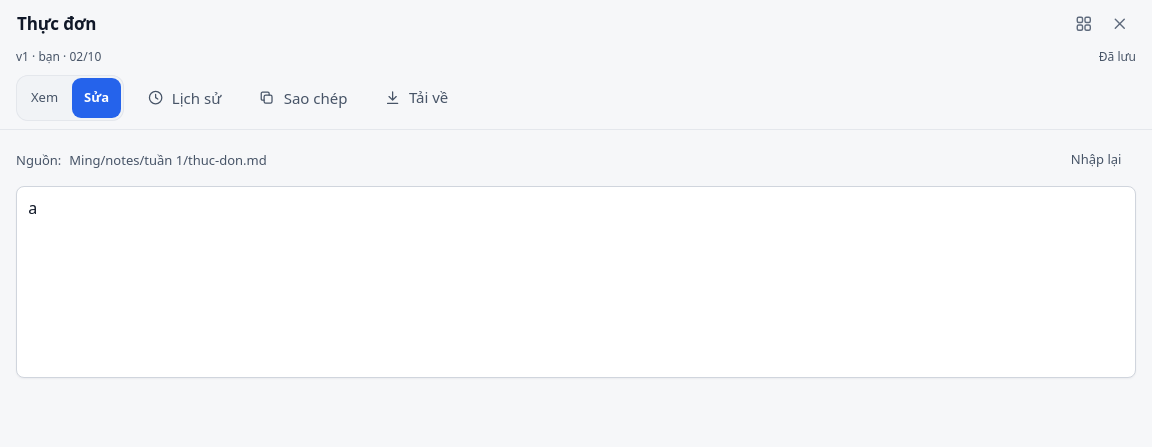
Test case: what a re-import said, once the canvas has a newer version › is taken back when the person's own save makes one
The image size is (1152, 447).
Click the button "Nhập lại" at (1096, 160), box [1056,142,1136,178]
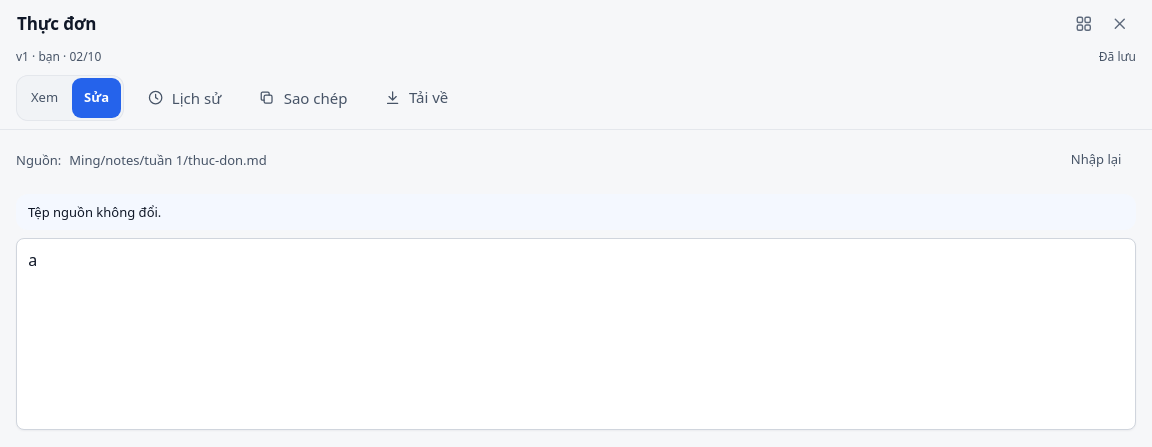
Replace the text in the text box named "Nội dung canvas" with "a!" at (576, 334), box [16,238,1136,430]
Wait 1500 ms
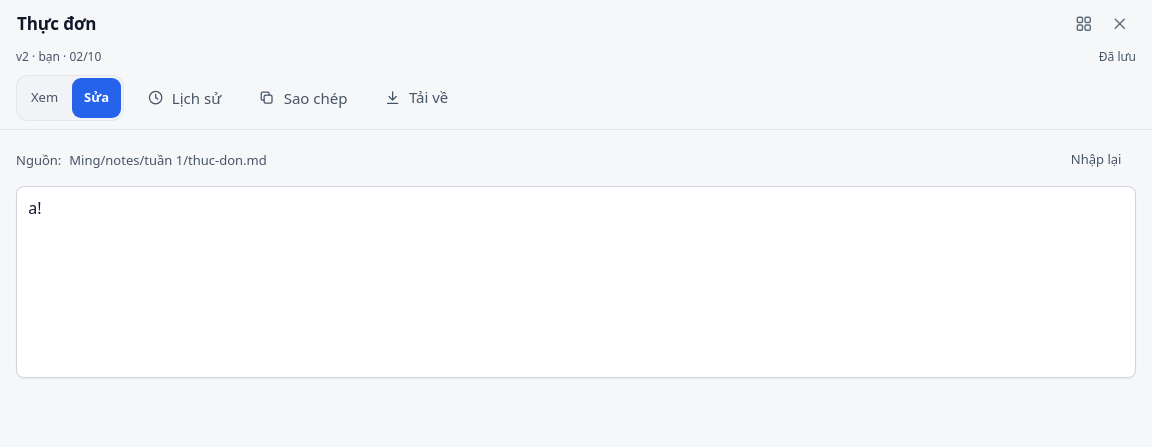
Expected: the text with class "canvas-version" shows "v2 · bạn ·", [16,48,101,65]
